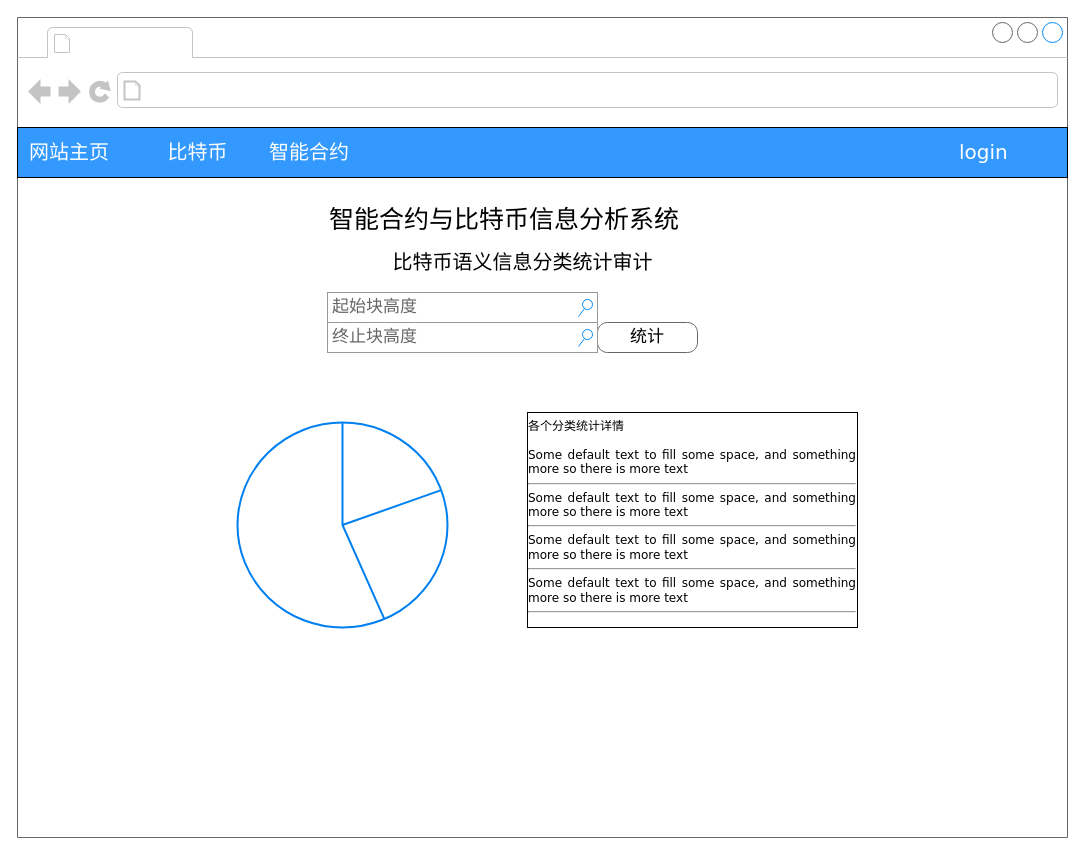
The diagram is 1085 pixels wide and 855 high, and some of its shapes have lost their labels. The shapes that lost their labels are listed below. From the top down, each one's centre as x and y in pixels, then its label:
At pixel 132 42: "blockchainInfo".
At pixel 272 90: "https://www.index.com".
